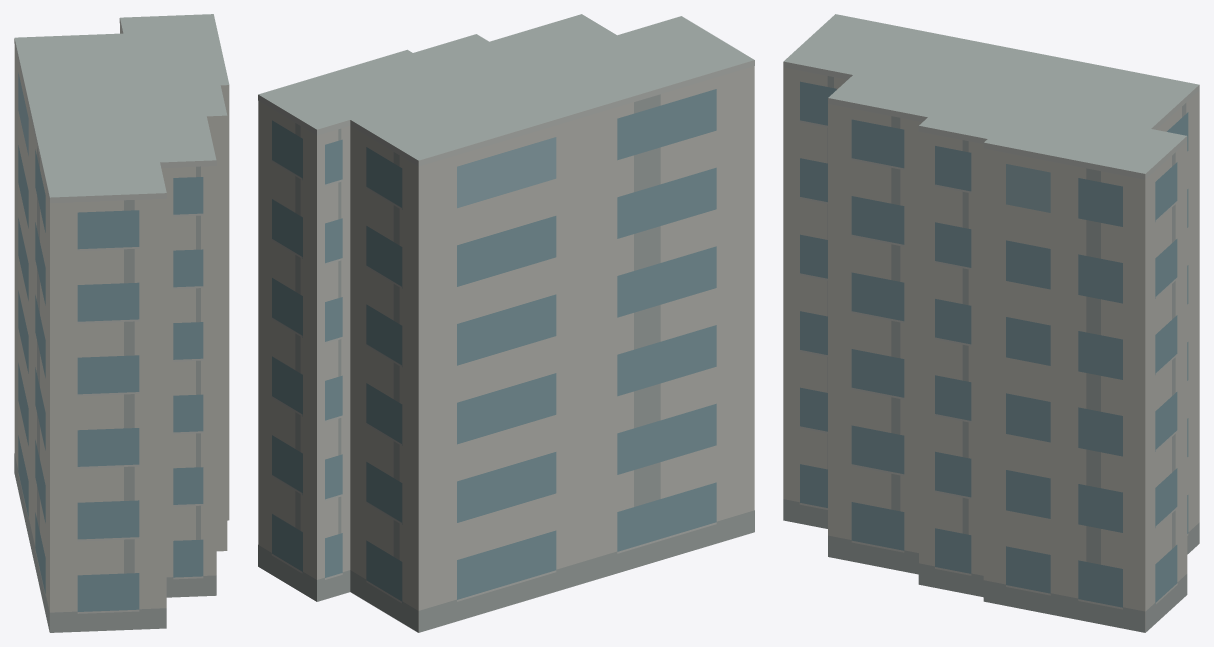
The model's file is survey-upis-32760113.glb.
3 renders of one model, left to right at view 1: azimuth 30°, elevation 25°; view 2: azimuth 150°, elevation 25°; view 3: azimuth 270°, elevation 25°, orthographic. The views are drawn at different scales.
Parts seen in each view (by area): view 1: survey-upis-32760113.tmp; view 2: survey-upis-32760113.tmp; view 3: survey-upis-32760113.tmp.
Part boxes in pixels (<box>): survey-upis-32760113.tmp: <box>14,14,229,632</box>; survey-upis-32760113.tmp: <box>258,14,754,632</box>; survey-upis-32760113.tmp: <box>783,14,1199,632</box>.
Bounding box in the file's own units: 14.29 × 19.1 × 15.7.
